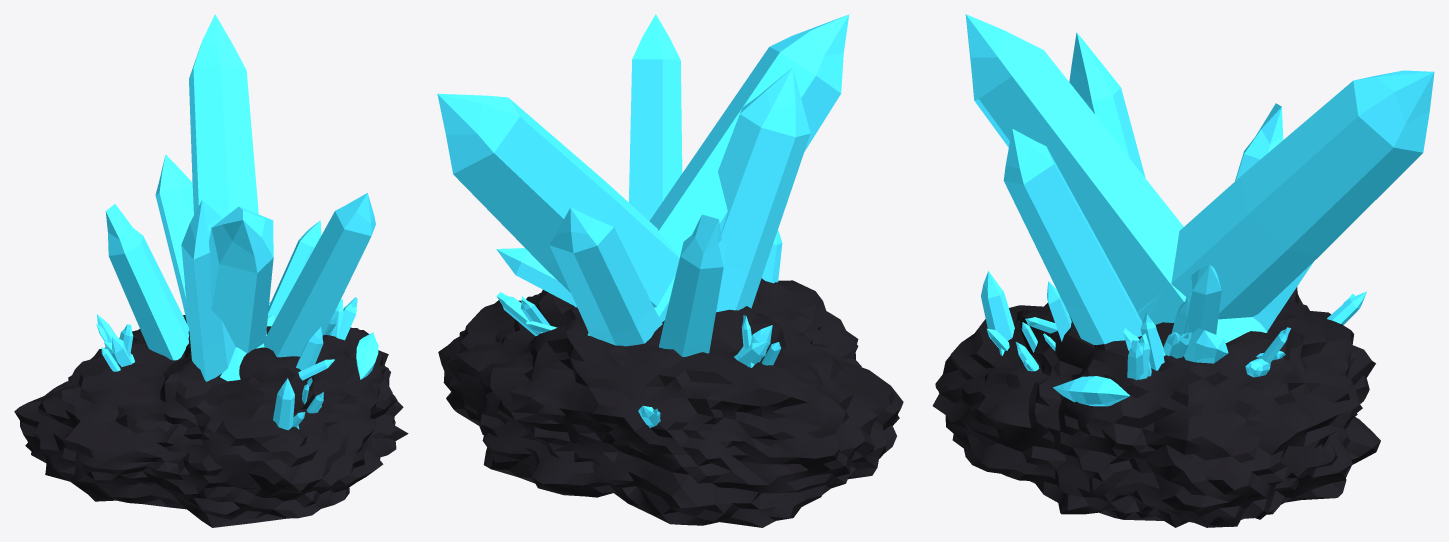
Rendered from Crystals_03_web.glb.
3 renders of one model, left to right at view 1: azimuth 30°, elevation 25°; view 2: azimuth 150°, elevation 25°; view 3: azimuth 270°, elevation 25°, orthographic. The views are drawn at different scales.
Parts seen in each view (by area): view 1: Crystals_03_Rock, Crystals_03_Crystals; view 2: Crystals_03_Rock, Crystals_03_Crystals; view 3: Crystals_03_Crystals, Crystals_03_Rock.
Part boxes in pixels (x1=…): Crystals_03_Rock: x1=14, y1=315, x2=408, y2=527; Crystals_03_Crystals: x1=96, y1=14, x2=378, y2=430; Crystals_03_Rock: x1=438, y1=278, x2=903, y2=527; Crystals_03_Crystals: x1=437, y1=14, x2=849, y2=428; Crystals_03_Crystals: x1=965, y1=14, x2=1434, y2=406; Crystals_03_Rock: x1=932, y1=287, x2=1380, y2=527.
Size of the model in its own units: 2.59 by 2.38 by 2.54.
